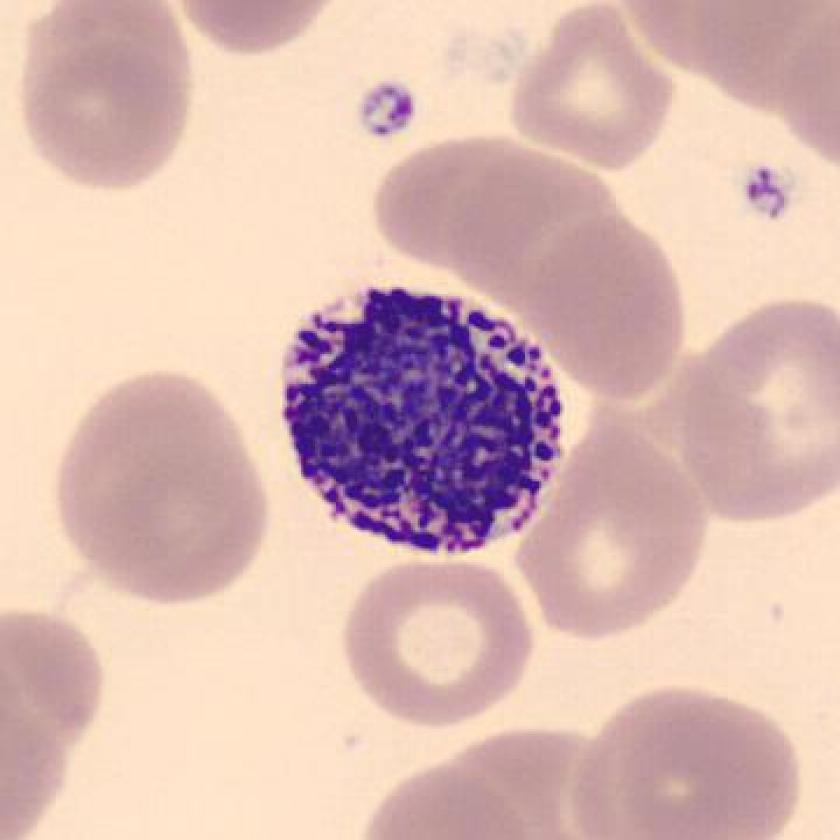basophil: (272, 265, 577, 570)
